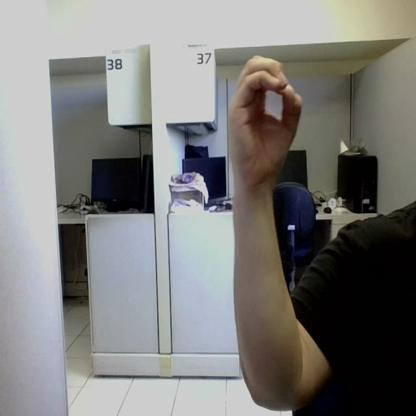O: (229, 55, 303, 179)
